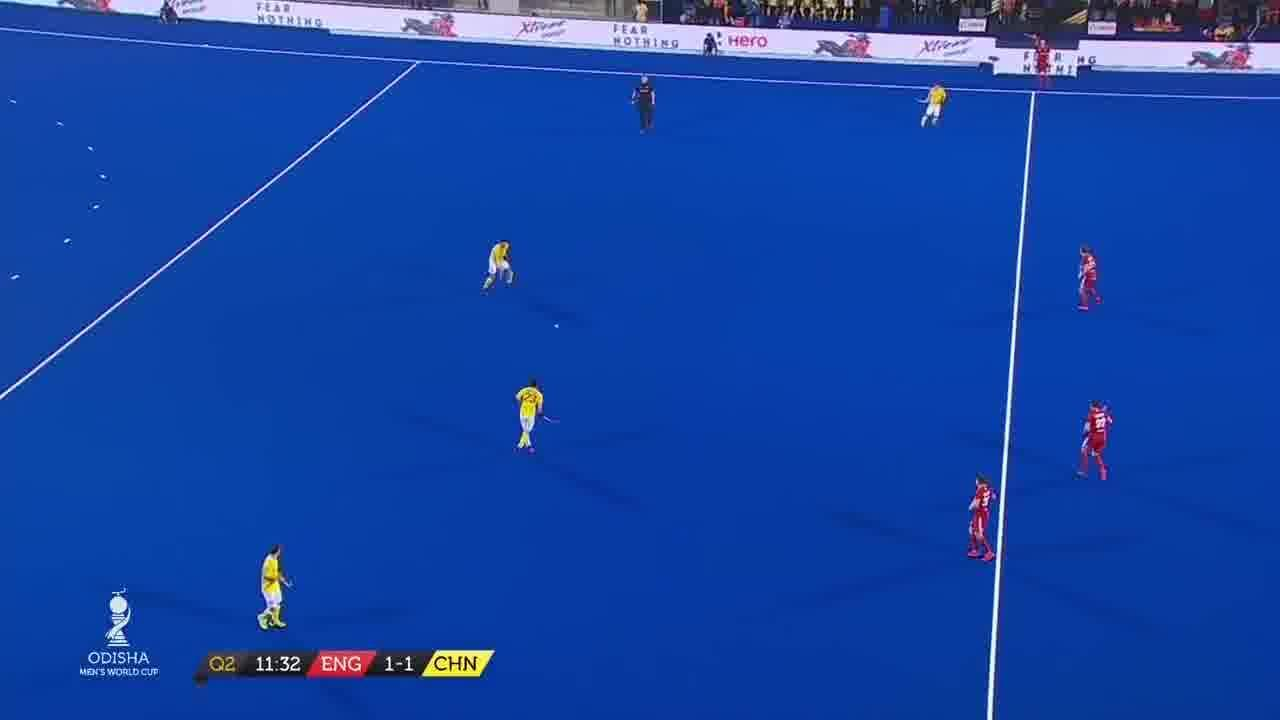ball: (548, 314, 564, 338)
